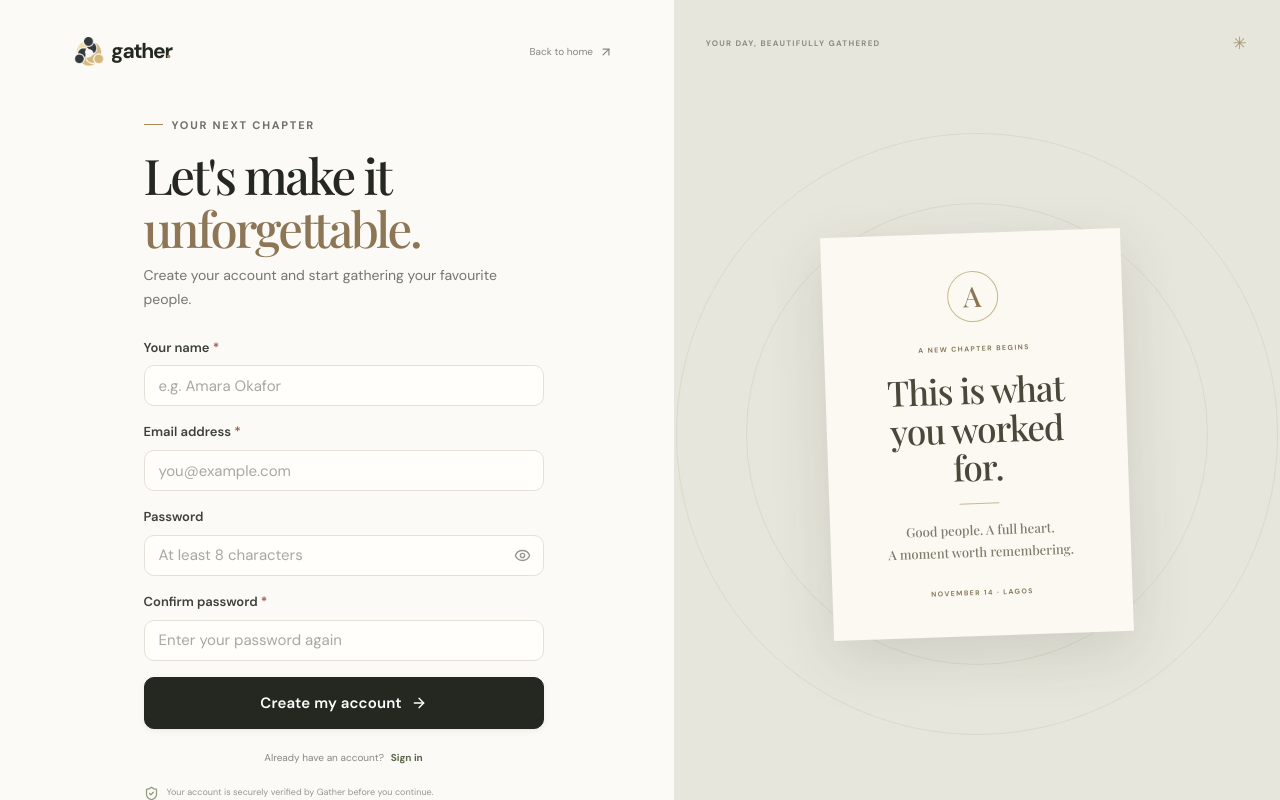
Test case: AuthPage › requires a first and last name on signup
This screenshot has width=1280, height=800.
Type "Ada" into the field labelled "Your name *" at (344, 386), box [144,365,544,406]
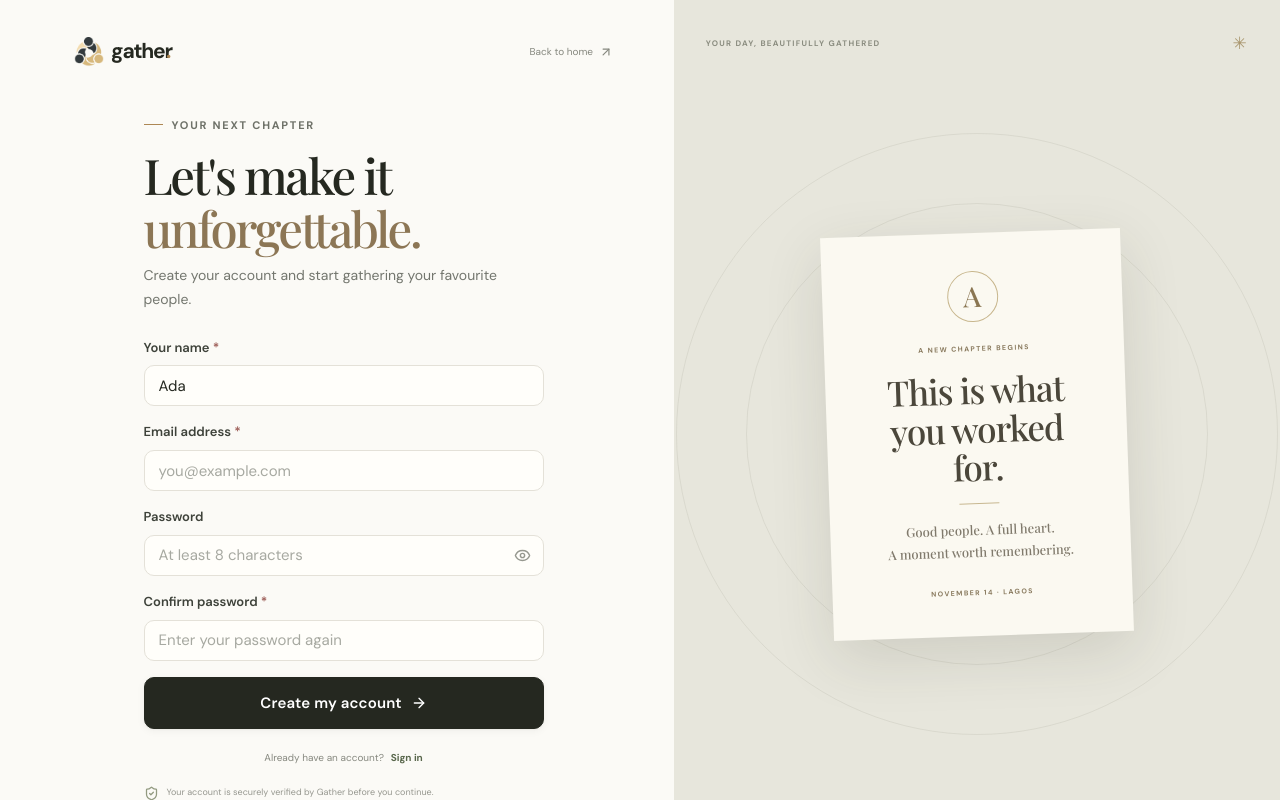
Type "ada@example.com" into the field labelled "Email address *" at (344, 471), box [144,450,544,491]
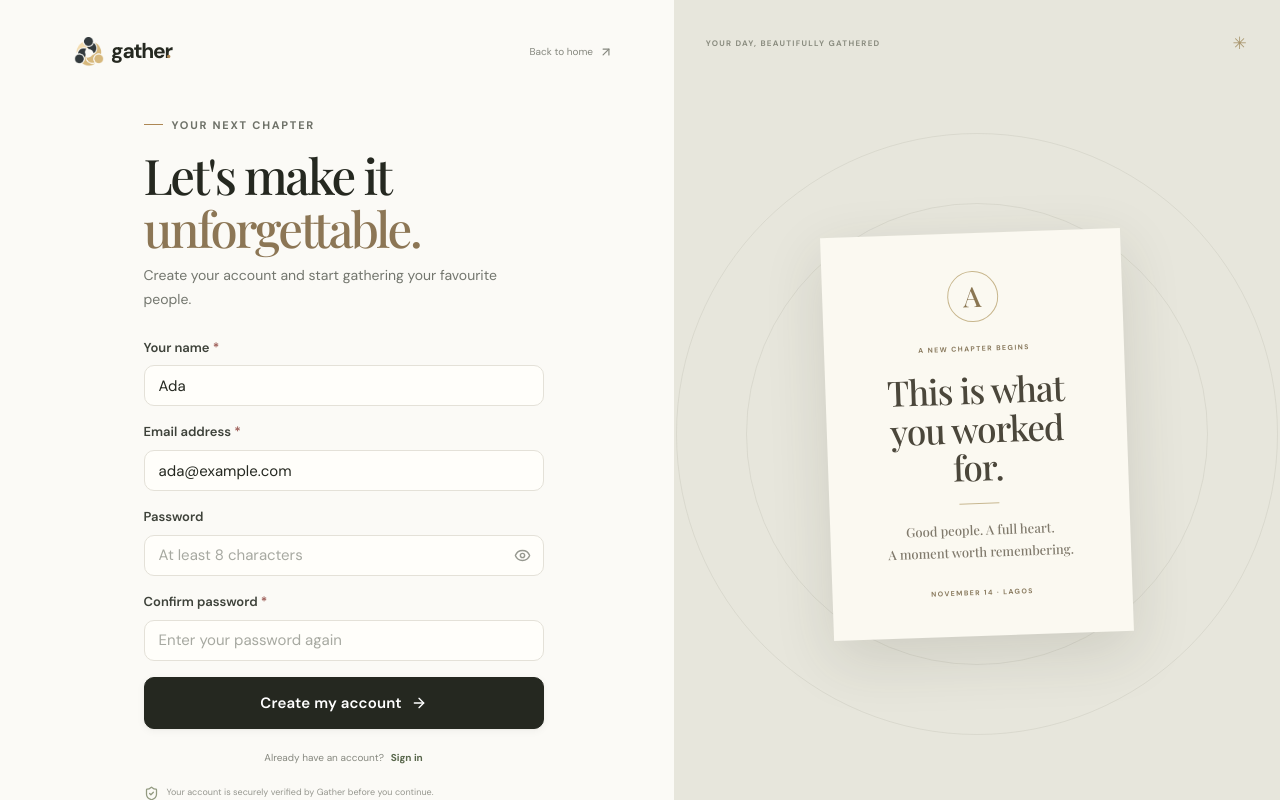
Type "password123" into the password field labelled "Password" at (344, 555), box [144,535,544,576]
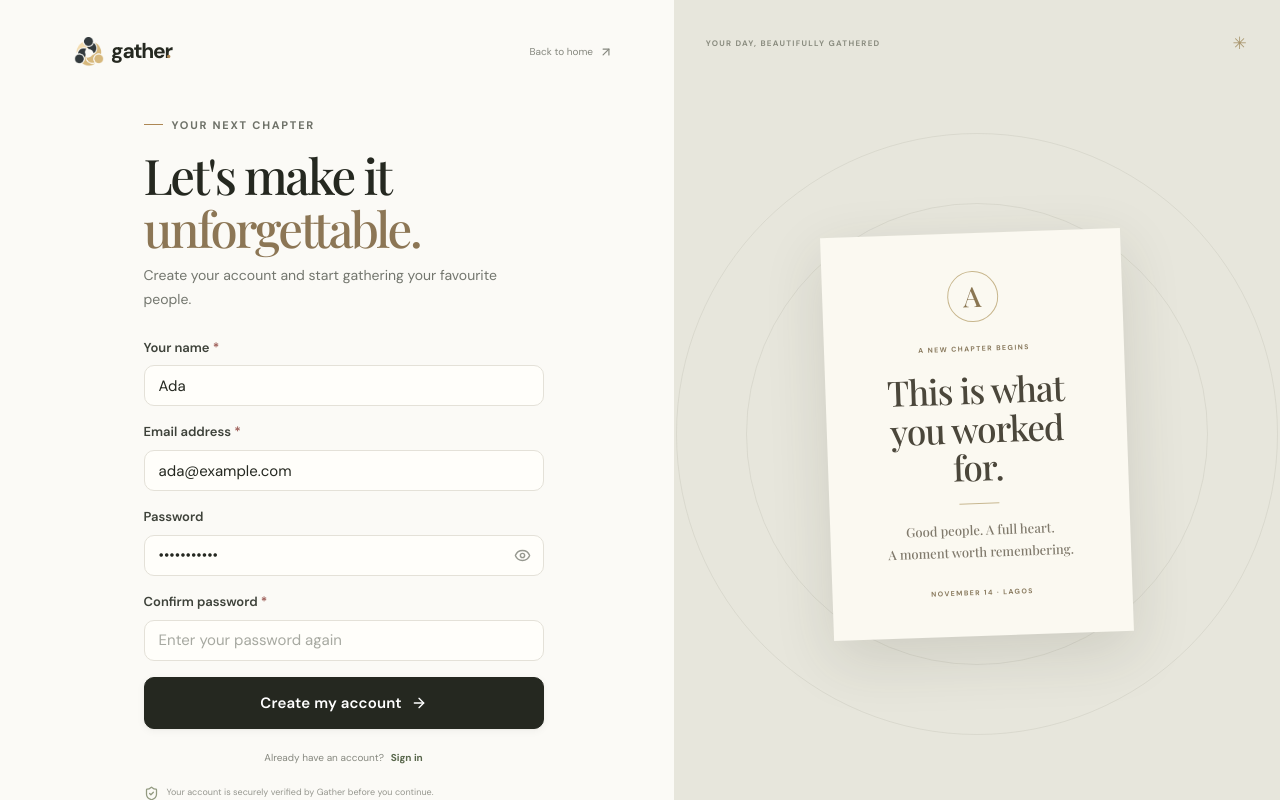
Type "password123" into the password field labelled "Confirm password *" at (344, 640), box [144,620,544,661]
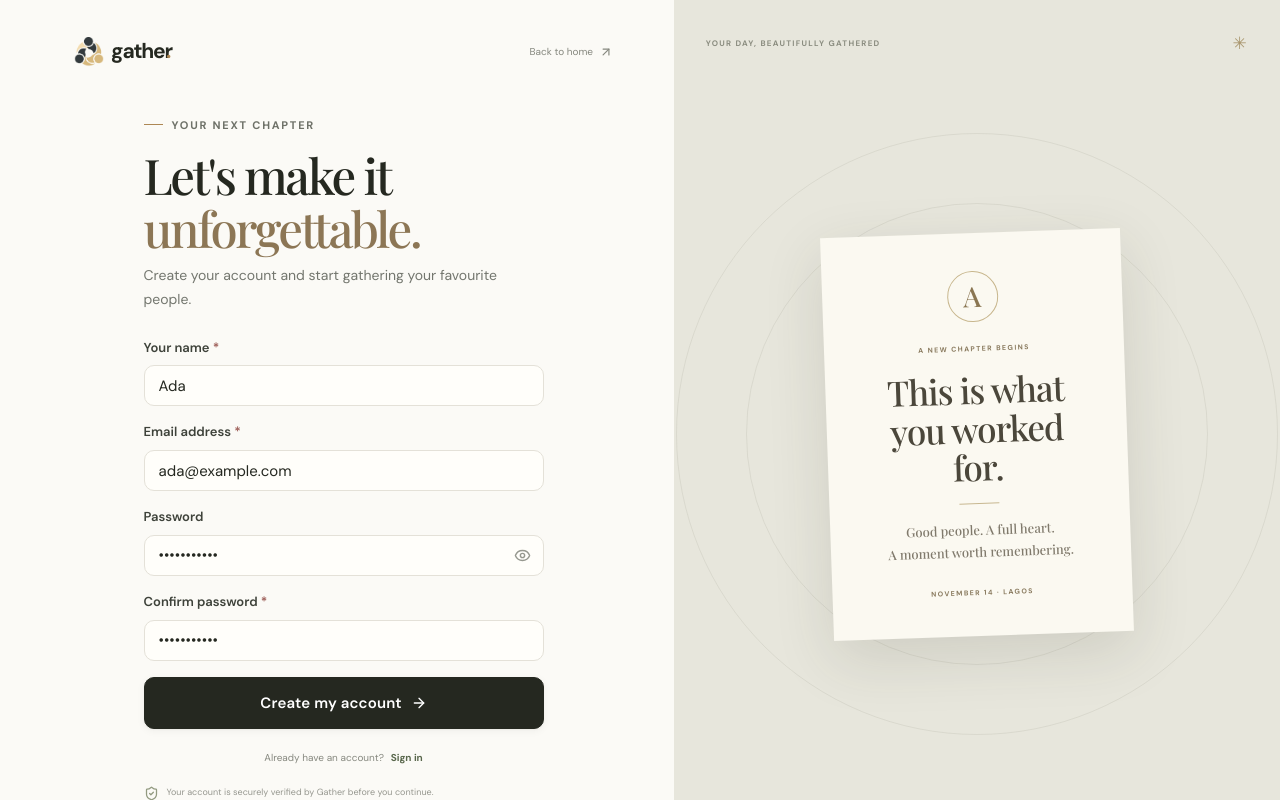
Click the button "Create my account" at (344, 703), box [144,677,544,729]
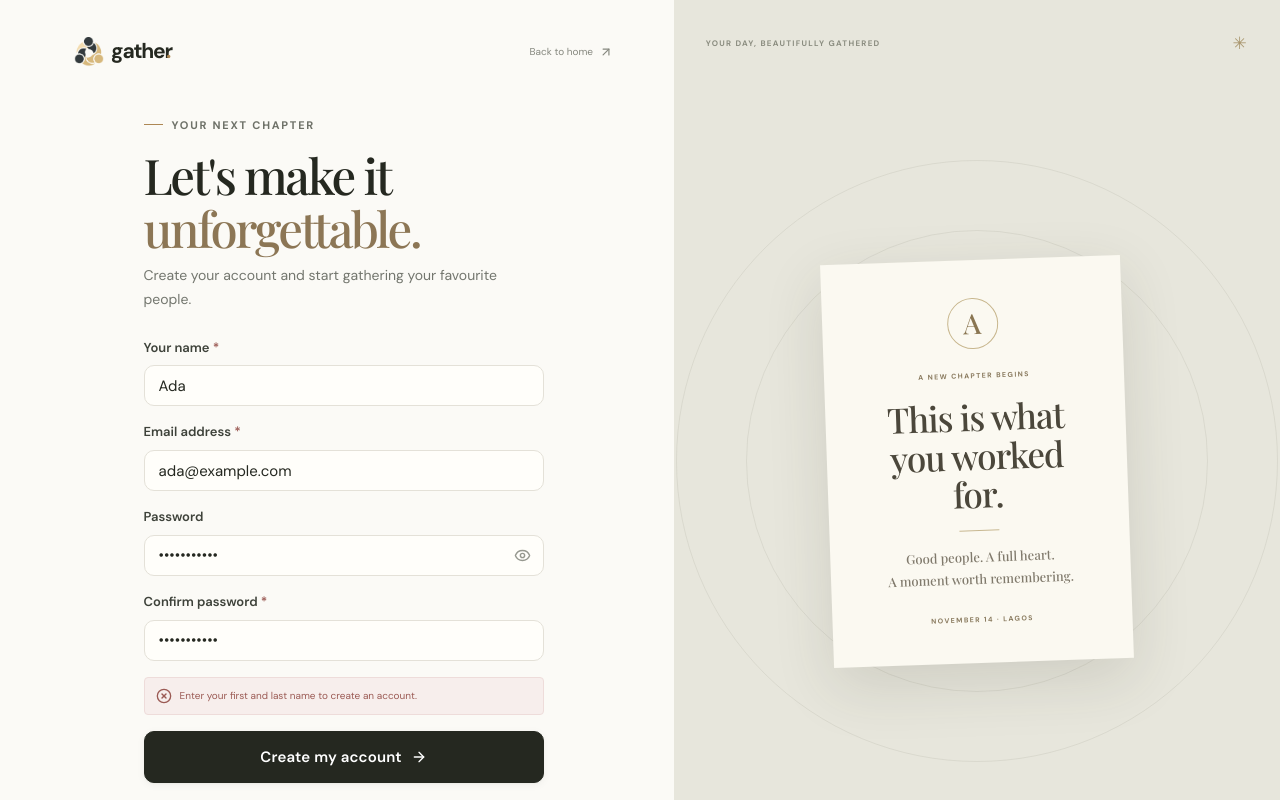
expect the text "Enter your first and last name to create an account." is shown: met, box [144,677,544,715]
